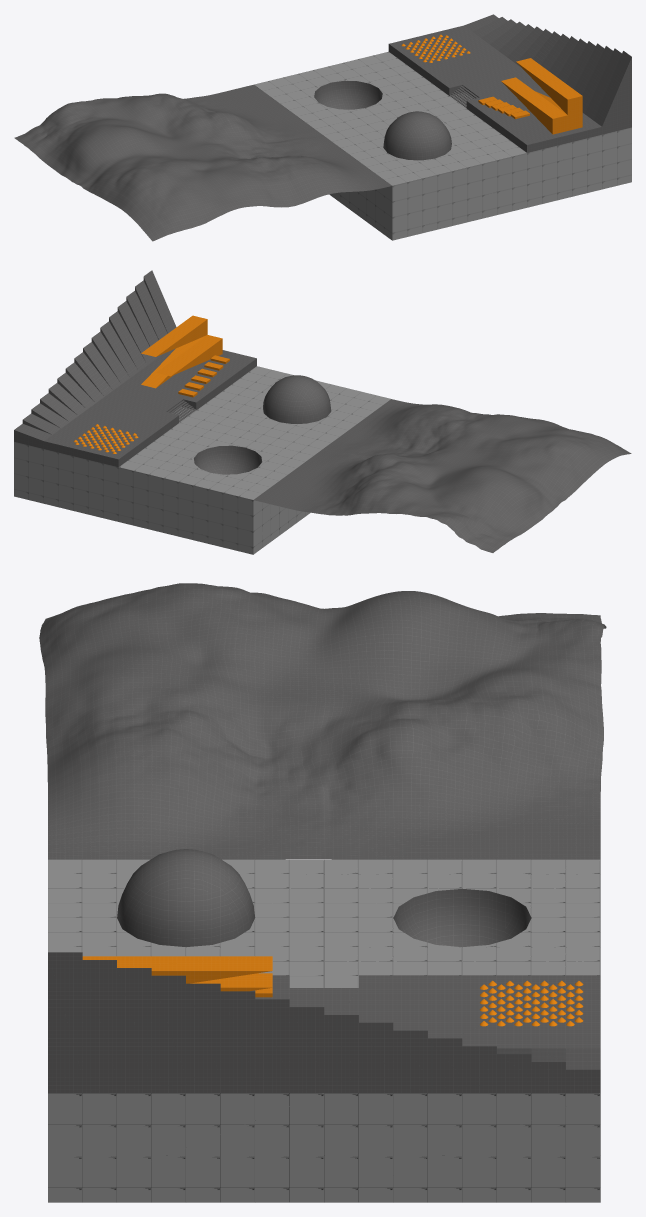
File: playerCollisionTest.gltf
The picture shows the model from 3 angles, top to bottom: view 1: azimuth 30°, elevation 25°; view 2: azimuth 150°, elevation 25°; view 3: azimuth 270°, elevation 25°; orthographic projection. The views are drawn at different scales.
Parts seen in each view (by area): view 1: mesh_158, mesh_2, mesh_140, mesh_25, mesh_24, mesh_139, mesh_57, mesh_153, mesh_155, mesh_142, mesh_23, mesh_56 (+14 smaller); view 2: mesh_158, mesh_140, mesh_142, mesh_2, mesh_25, mesh_24, mesh_139, mesh_155, mesh_153, mesh_23, mesh_53, mesh_57 (+15 smaller); view 3: mesh_158, mesh_2, mesh_140, mesh_142, mesh_25, mesh_139, mesh_57, mesh_24, mesh_56, mesh_55, mesh_54, mesh_53 (+15 smaller).
Part boxes in pixels (left/top/right/bottom): mesh_158: left=14, top=84, right=391, bottom=241; mesh_2: left=323, top=98, right=631, bottom=240; mesh_140: left=254, top=55, right=442, bottom=134; mesh_25: left=388, top=25, right=523, bottom=95; mesh_24: left=466, top=83, right=631, bottom=152; mesh_139: left=383, top=111, right=451, bottom=160; mesh_57: left=593, top=51, right=631, bottom=126; mesh_153: left=501, top=77, right=567, bottom=134; mesh_155: left=516, top=58, right=582, bottom=114; mesh_142: left=374, top=51, right=472, bottom=105; mesh_23: left=464, top=70, right=536, bottom=98; mesh_56: left=585, top=48, right=621, bottom=120; mesh_158: left=253, top=399, right=631, bottom=552; mesh_140: left=133, top=420, right=321, bottom=554; mesh_142: left=14, top=413, right=202, bottom=525; mesh_2: left=173, top=366, right=390, bottom=449; mesh_25: left=14, top=397, right=178, bottom=466; mesh_24: left=122, top=348, right=256, bottom=410; mesh_139: left=263, top=375, right=331, bottom=423; mesh_155: left=141, top=315, right=207, bottom=356; mesh_153: left=156, top=335, right=222, bottom=376; mesh_23: left=104, top=384, right=181, bottom=412; mesh_53: left=109, top=311, right=147, bottom=371; mesh_57: left=143, top=270, right=176, bottom=333; mesh_158: left=39, top=583, right=606, bottom=859; mesh_2: left=48, top=859, right=324, bottom=1202; mesh_140: left=324, top=859, right=600, bottom=976; mesh_142: left=324, top=976, right=600, bottom=1202; mesh_25: left=359, top=975, right=600, bottom=1092; mesh_139: left=117, top=849, right=255, bottom=946; mesh_57: left=48, top=952, right=82, bottom=1077; mesh_24: left=48, top=975, right=289, bottom=1092; mesh_56: left=82, top=960, right=116, bottom=1077; mesh_55: left=117, top=968, right=151, bottom=1077; mesh_54: left=151, top=975, right=185, bottom=1077; mesh_53: left=186, top=983, right=220, bottom=1077.
Size of the model in its own units: 105 by 26.01 by 53.37.
Materials: 29 (29 with a texture image).
